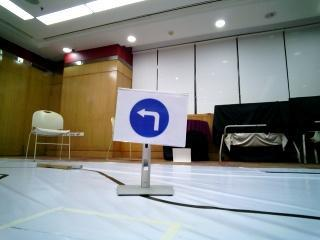left: (110, 91, 184, 147)
